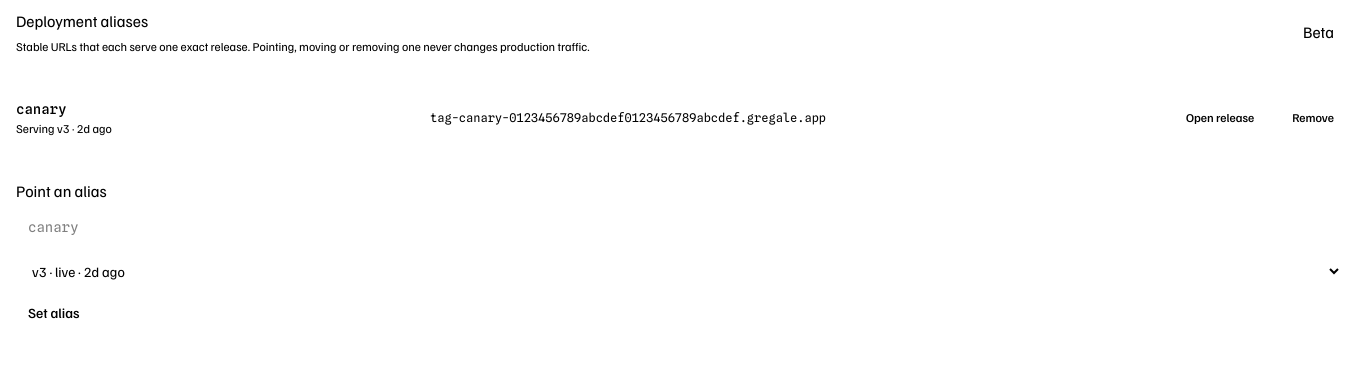
Test: DeploymentAliasesPanel › sends nothing when the fresh read fails
This screenshot has width=1356, height=367.
Type "staging" into the field named "Alias name". click: (104, 227)
box: [16,209,192,245]
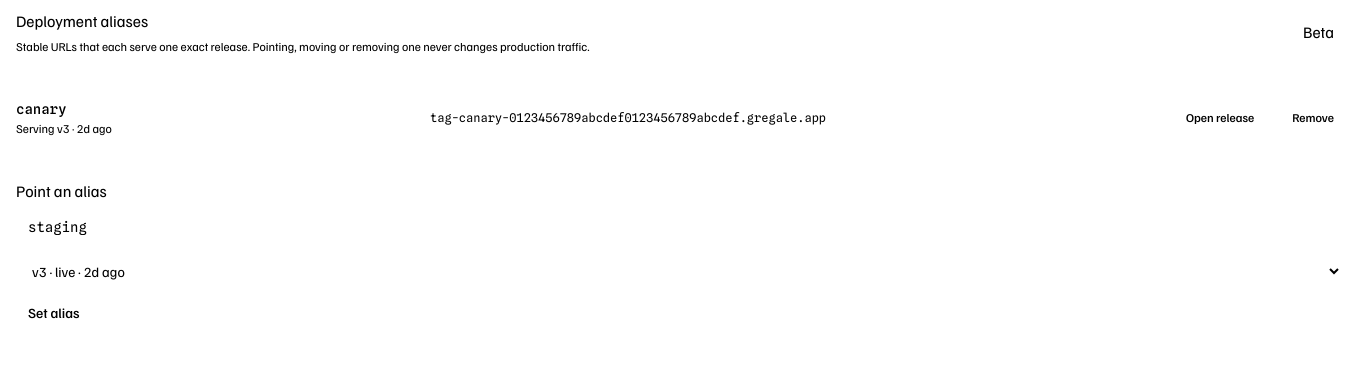
Click the button "Set alias". click: click(54, 313)
box: [16,297,92,329]
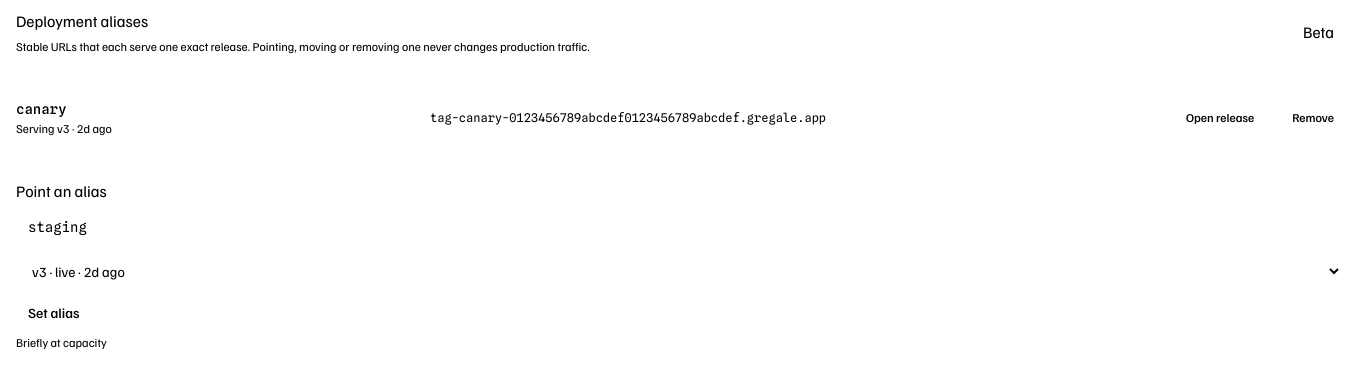
Check: the message reads "Briefly at capacity", box [16,335,107,350]
